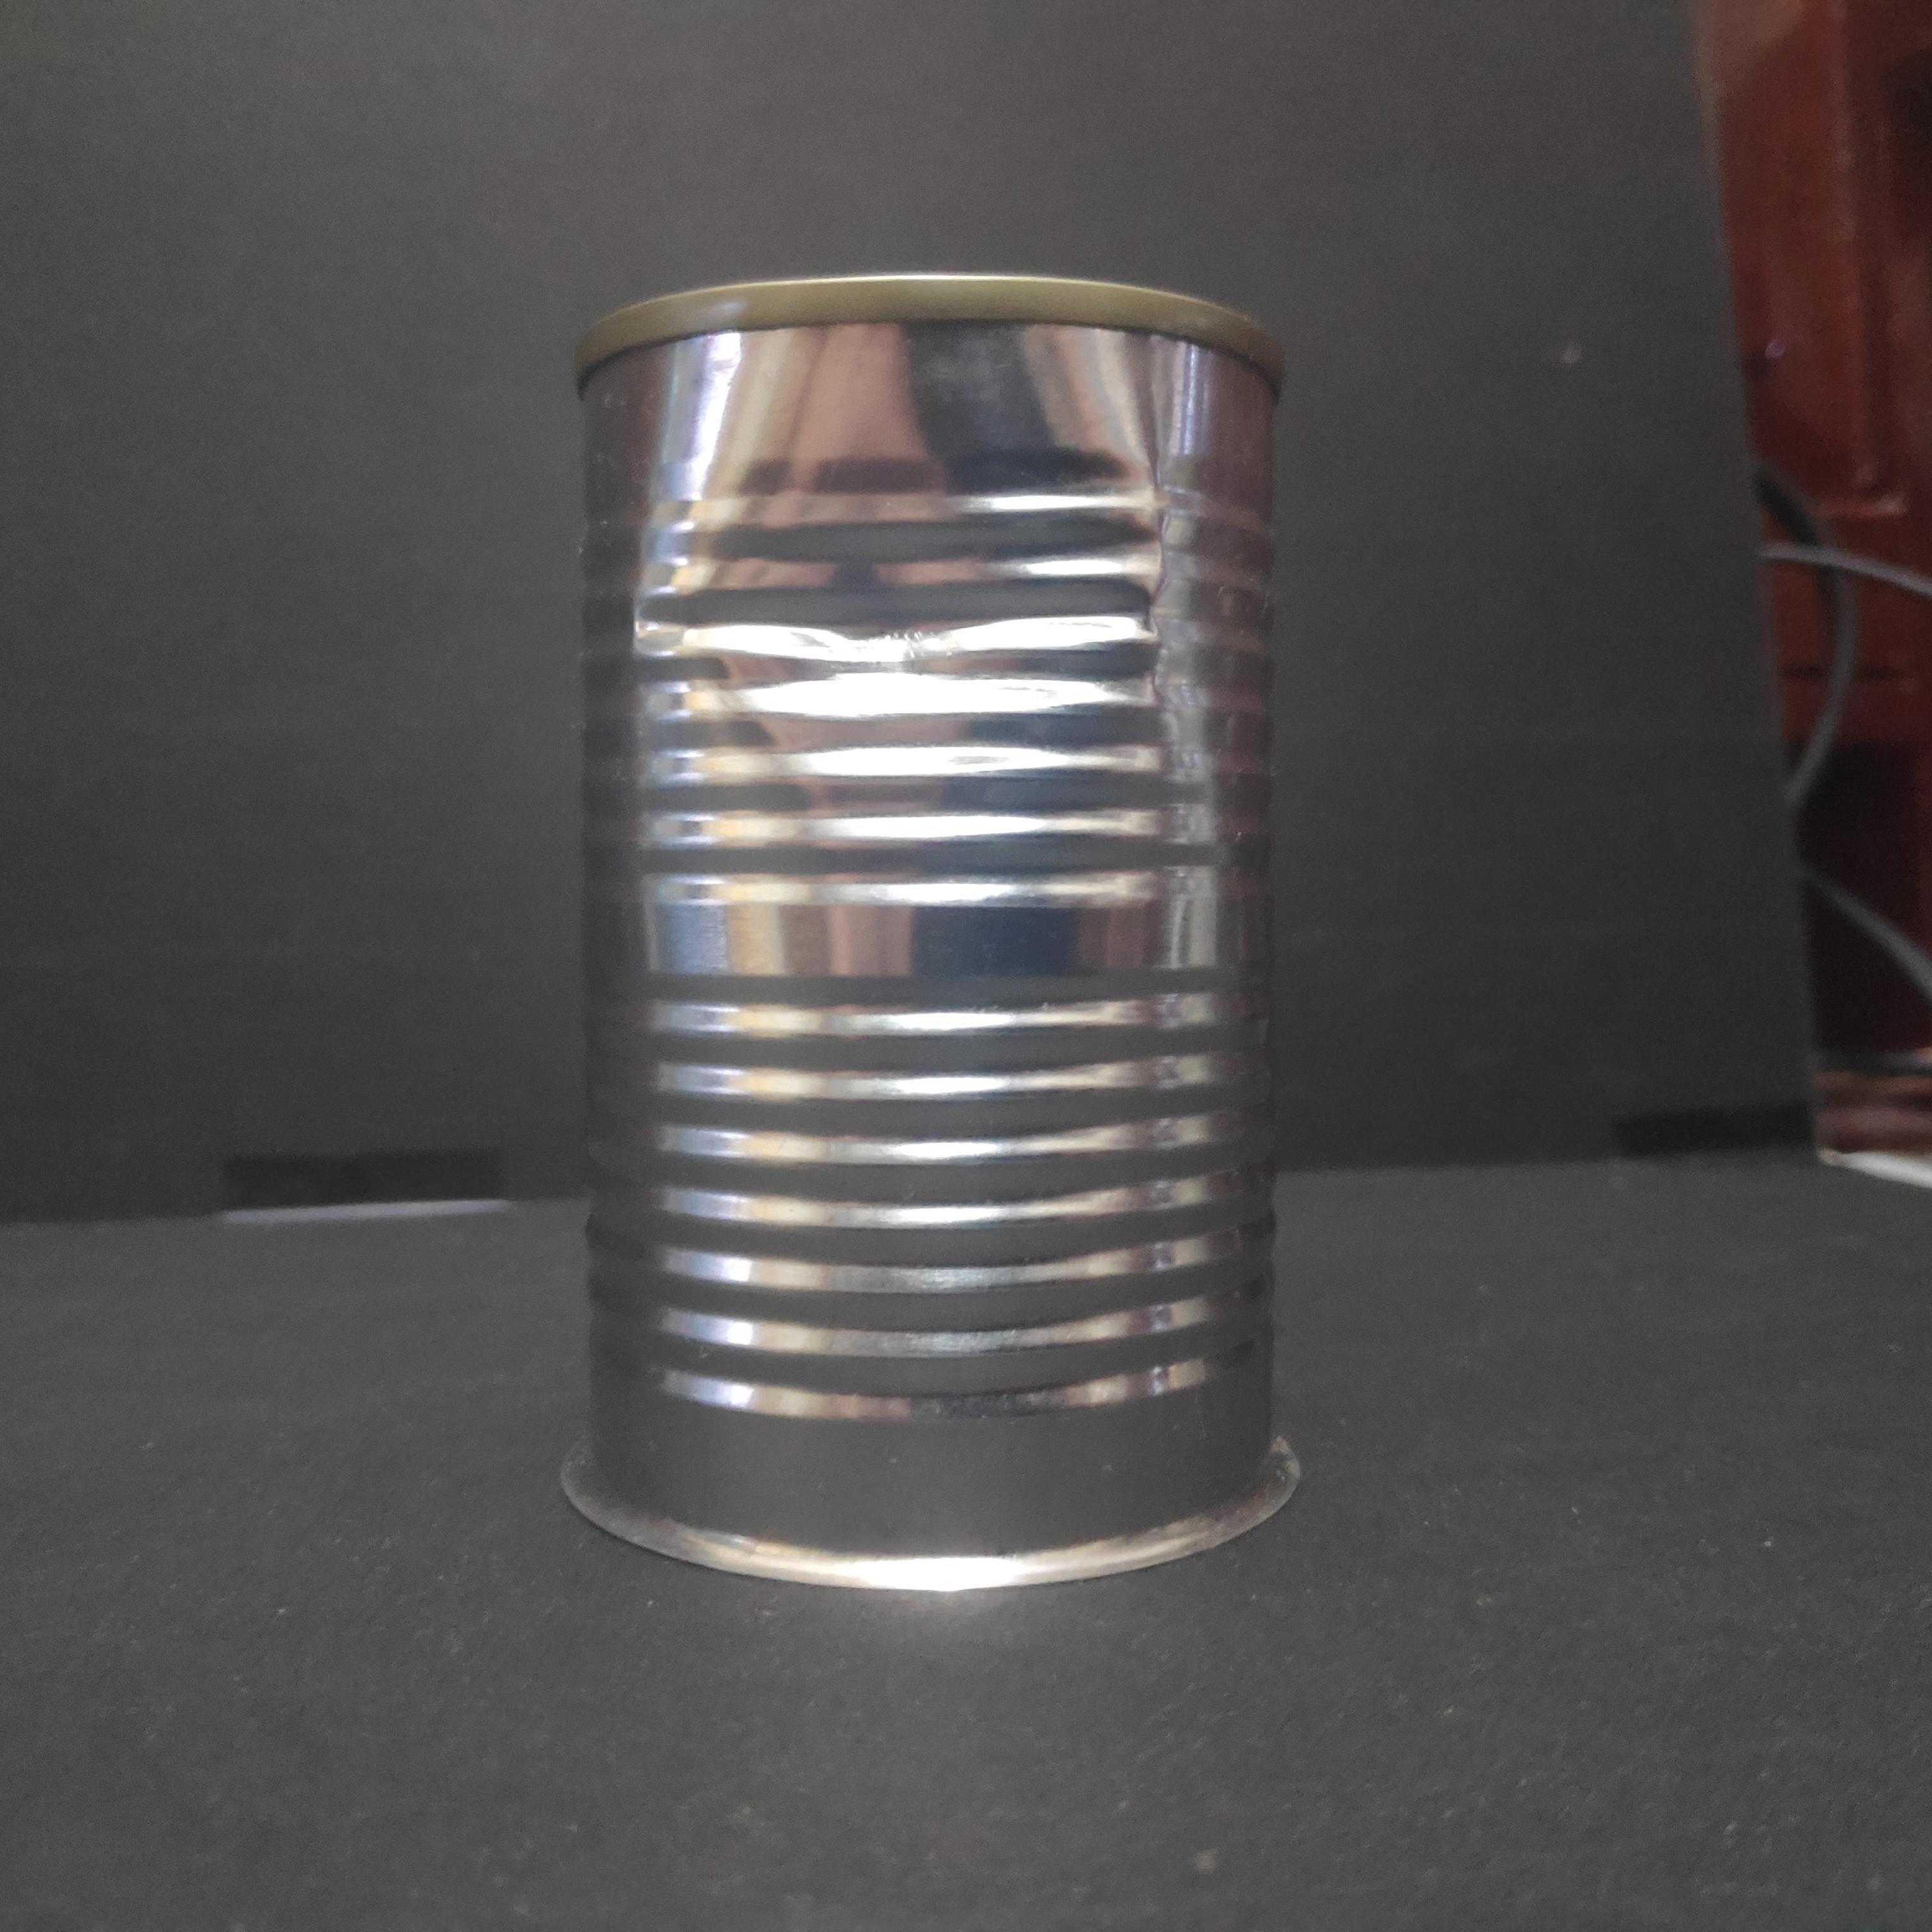Dented: (550, 239, 1329, 1633)
